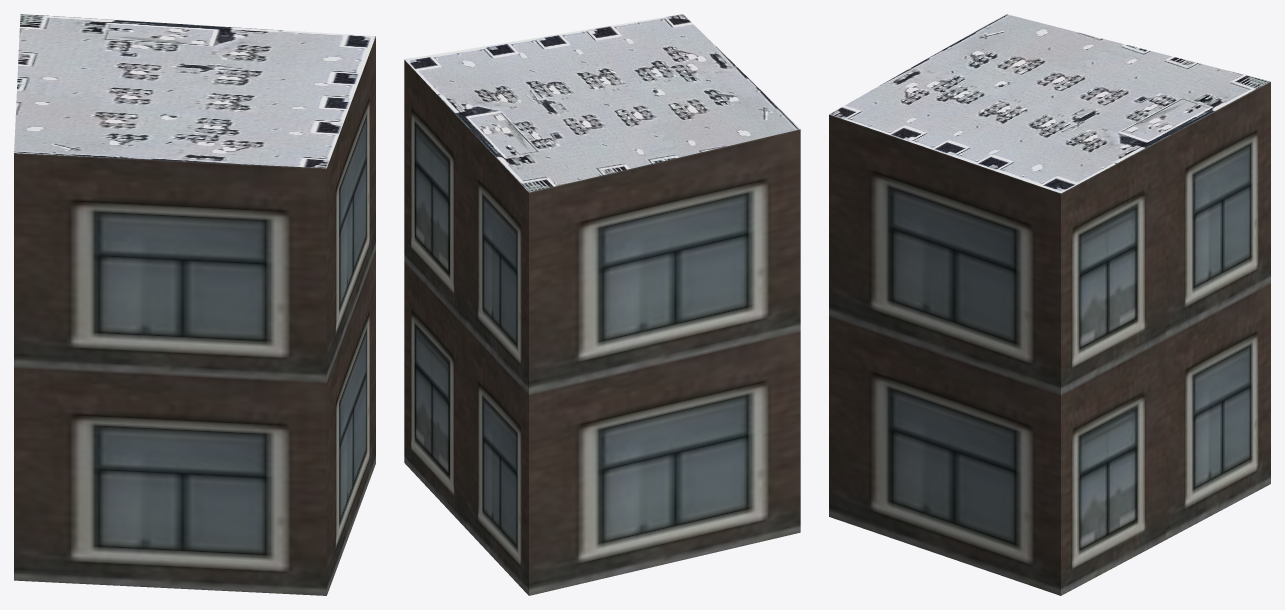
The model's file is ResTex__233.fbx.
The picture shows the model from 3 angles, left to right: view 1: azimuth 30°, elevation 25°; view 2: azimuth 150°, elevation 25°; view 3: azimuth 270°, elevation 25°; orthographic projection. The views are drawn at different scales.
Parts seen in each view (by area): view 1: CityEngineMaterial_16_m, CityEngineMaterial_15_m; view 2: CityEngineMaterial_16_m, CityEngineMaterial_15_m; view 3: CityEngineMaterial_16_m, CityEngineMaterial_15_m.
Part boxes in pixels (x1,y1,x2,y2): CityEngineMaterial_16_m: (14, 36, 375, 595); CityEngineMaterial_15_m: (14, 14, 375, 168); CityEngineMaterial_16_m: (404, 60, 800, 595); CityEngineMaterial_15_m: (404, 14, 800, 192); CityEngineMaterial_16_m: (829, 82, 1270, 595); CityEngineMaterial_15_m: (829, 14, 1270, 193).
Size of the model in its own units: 5.74 by 6 by 5.97.
2 materials, 2 textured.
